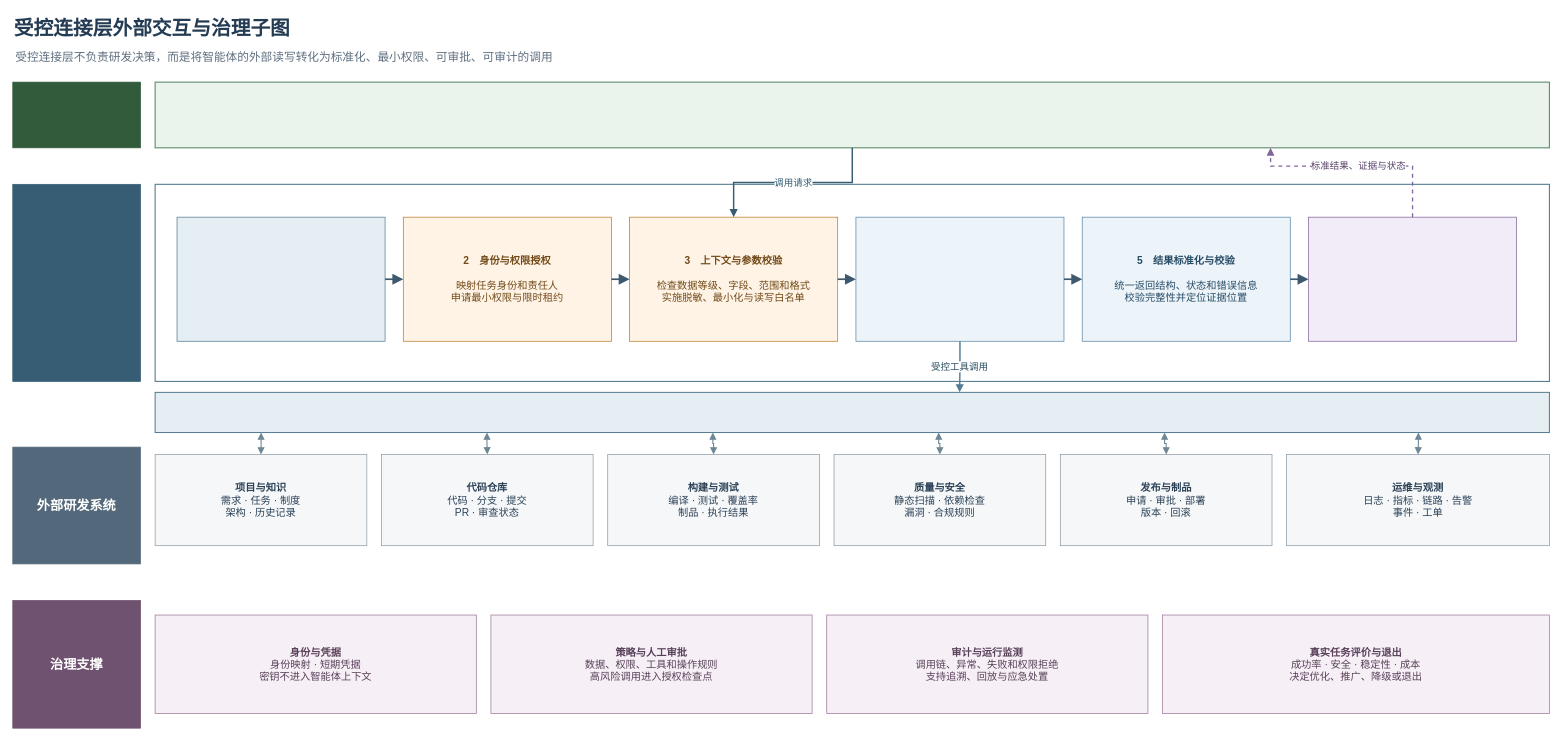
Image size: 1563x741. Some labels were removed from this diagram. Here are the shapes that lost their labels. From the top down, the centre of each, then its label:
At (x=76, y=114): "调用发起方".
At (x=852, y=114): "主控智能体 / 专业智能体 提交结构化调用请求：任务、工具意图、参数、所需权限、预期结果与证据要求".
At (x=76, y=282): "受控调用链".
At (x=280, y=278): "1 工具发现与选择 按意图发现允许使用的受控工具 核验版本、能力和适用范围".
At (x=959, y=278): "4 连接器受控执行 从凭据系统获取短期凭据 在超时、资源和网络限制内执行".
At (x=1412, y=278): "6 审计与状态回写 记录身份、工具、参数、结果和审批 向智能执行中枢与原系统回写状态".
At (x=852, y=412): "受控连接器注册表与执行总线 只读查询：任务授权 ｜ 普通写入：白名单与参数规则 ｜ 高风险写入：人工审批".
